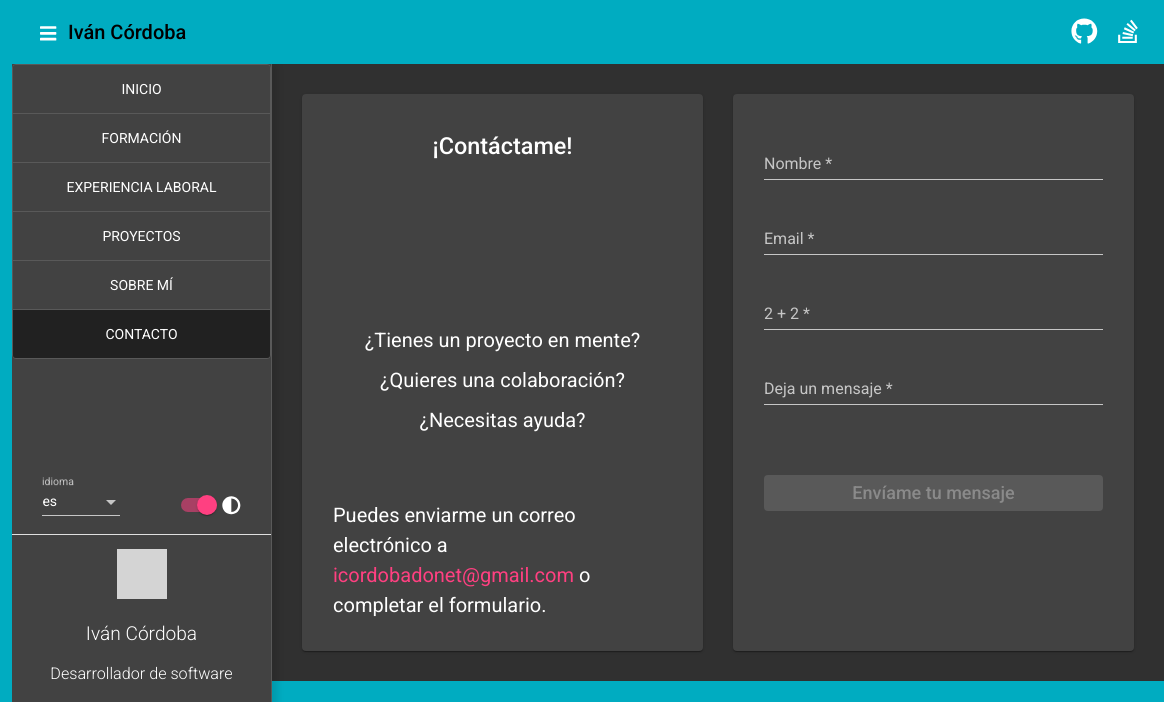
Test: Contact Page › should show required error on email field
The image size is (1164, 702).
Type "nabby27" into the field with test id "contactFieldEmailInput" at (934, 239), box [764,230,1103,248]
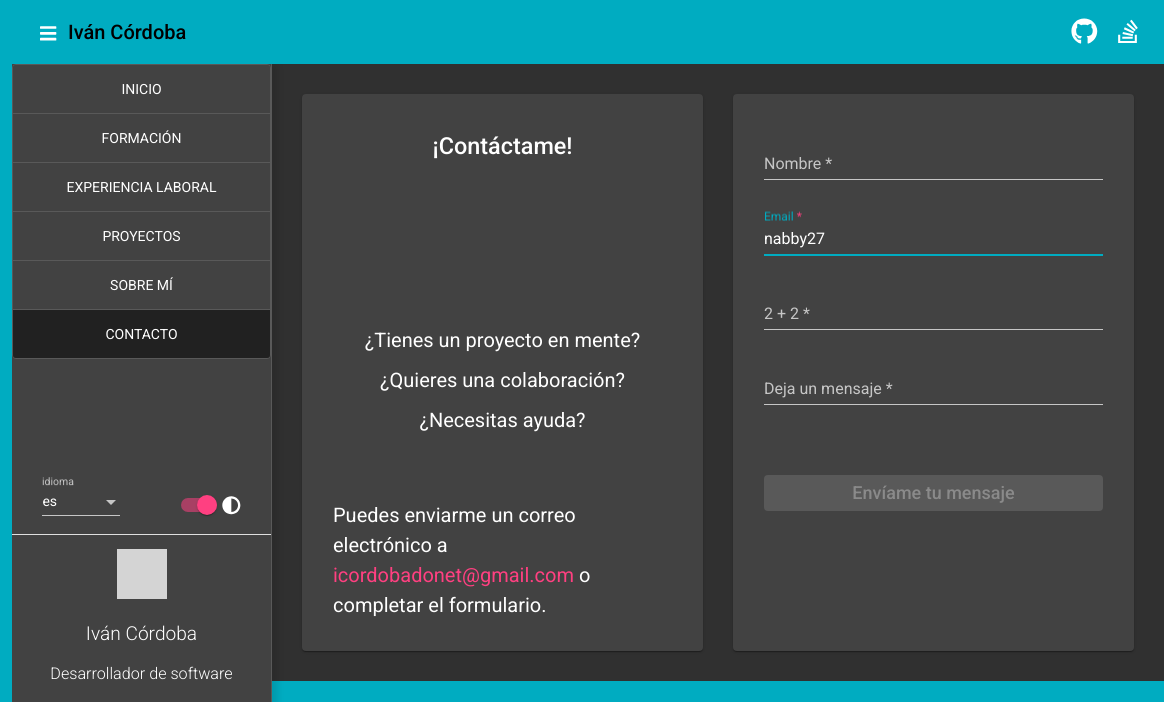
Clear the field with test id "contactFieldEmailInput" at (934, 239), box [764,230,1103,248]
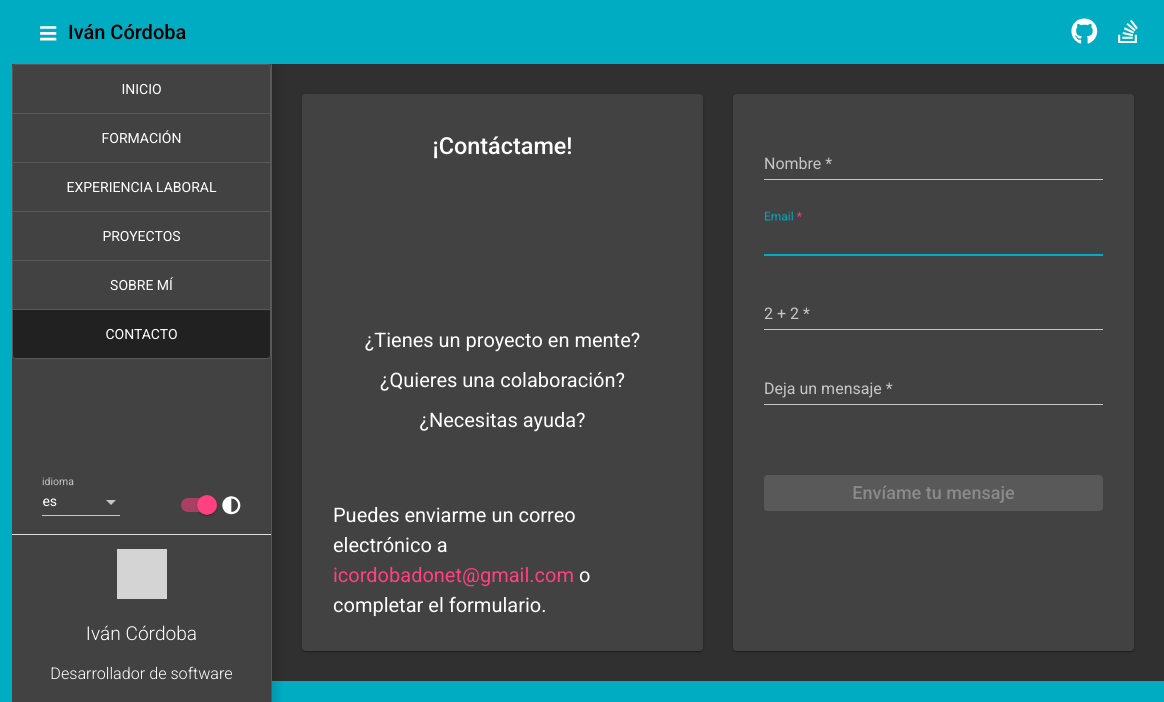
Click the element with test id "contactCard" that starts with "¡Contáctame!" at (503, 373), box [302,94,703,651]
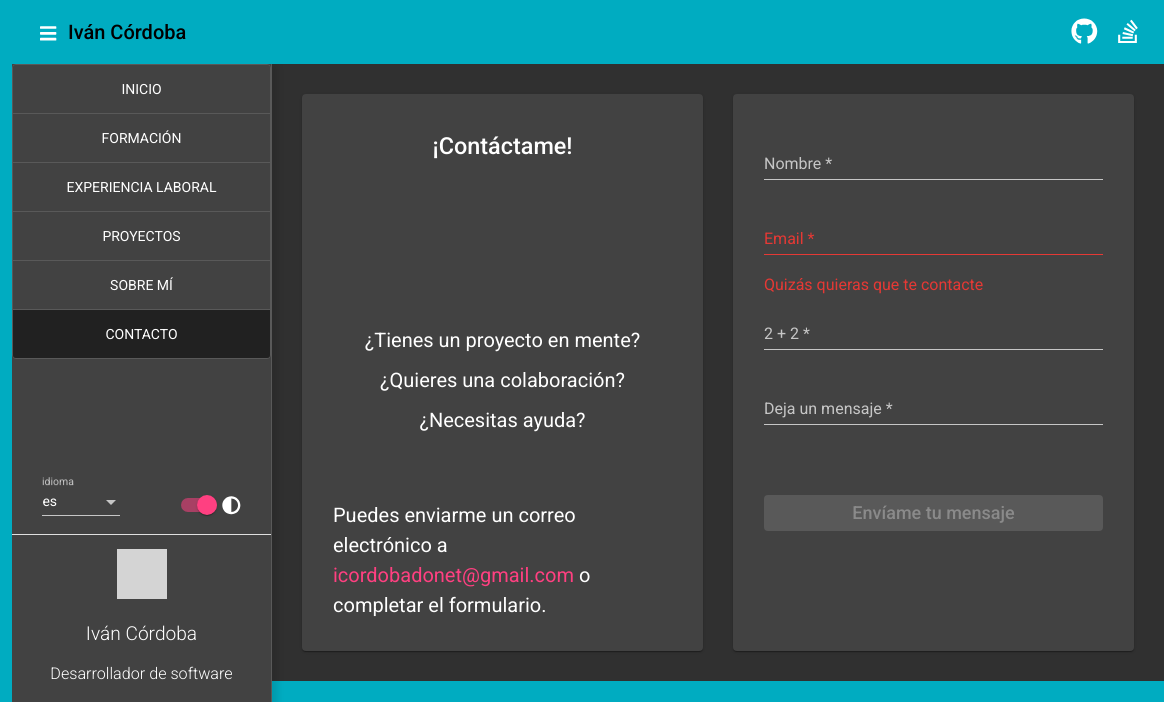
Expected: the text "Quizás quieras que te contacte" is shown, [764,275,983,294]
